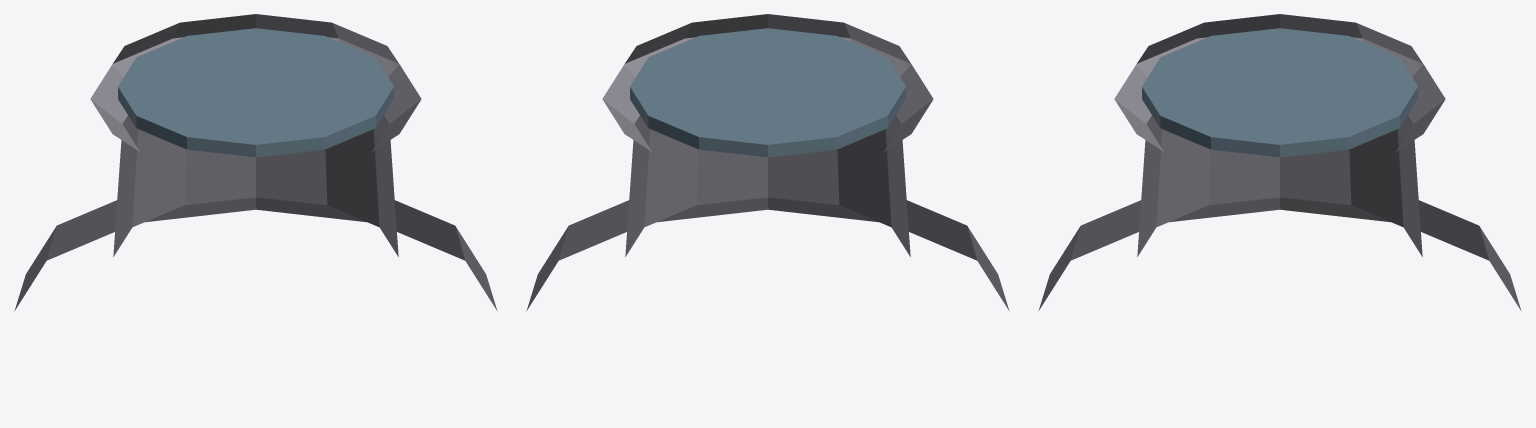
The model's file is mythic-underworld-and-olympus-offering-well-fa16092c__21358.glb.
3 views of the same model, side by side, from view 1: azimuth 30°, elevation 25°; view 2: azimuth 150°, elevation 25°; view 3: azimuth 270°, elevation 25° (orthographic).
Parts seen in each view (by area): view 1: offering-well; view 2: offering-well; view 3: offering-well.
Part boxes in pixels (x1,y1,x2,y2): offering-well: [14, 14, 497, 310]; offering-well: [526, 14, 1009, 310]; offering-well: [1038, 14, 1521, 310].
Size of the model in its own units: 2.1 by 1.12 by 2.1.
